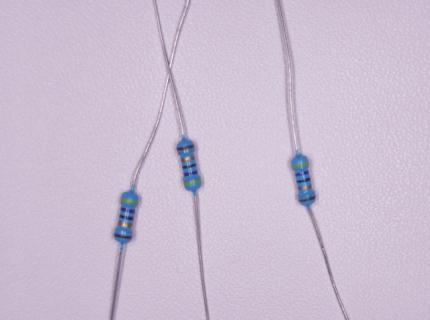Gold band: (298, 183, 312, 191), (117, 221, 133, 228), (181, 155, 195, 162)
Violet band: (120, 207, 136, 214), (183, 170, 198, 177), (295, 170, 309, 177)
Yellow band: (183, 178, 201, 186), (120, 198, 138, 205), (292, 162, 309, 168)
